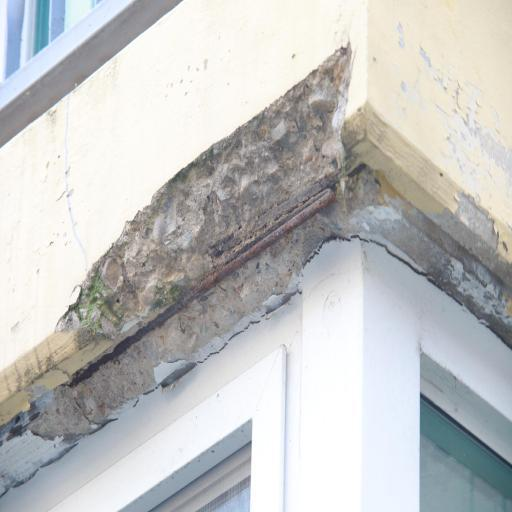exposed_rebar: (68, 188, 336, 388), (7, 411, 41, 441)
spalling: (29, 47, 512, 442), (434, 193, 512, 288)
